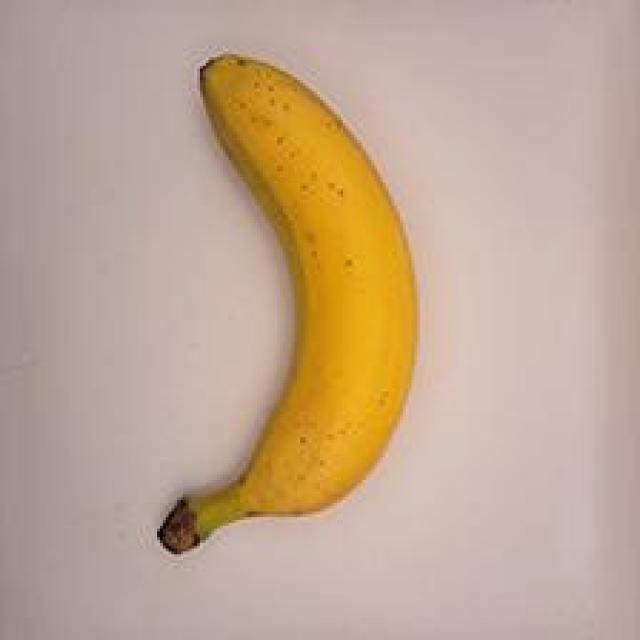Ripe: (121, 39, 445, 560)
